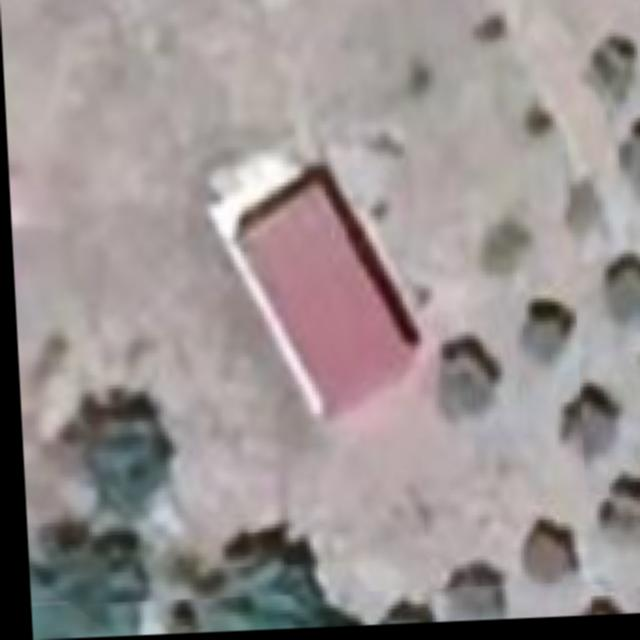Batiment: (236, 170, 413, 416)
